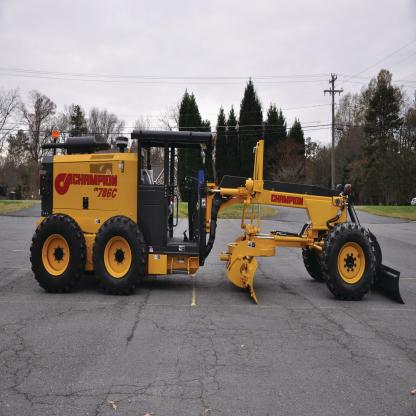bull_dozer/loader/grader: (24, 115, 412, 309)
